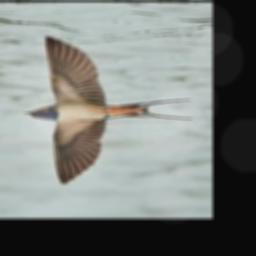Swallow: (23, 37, 191, 185)
